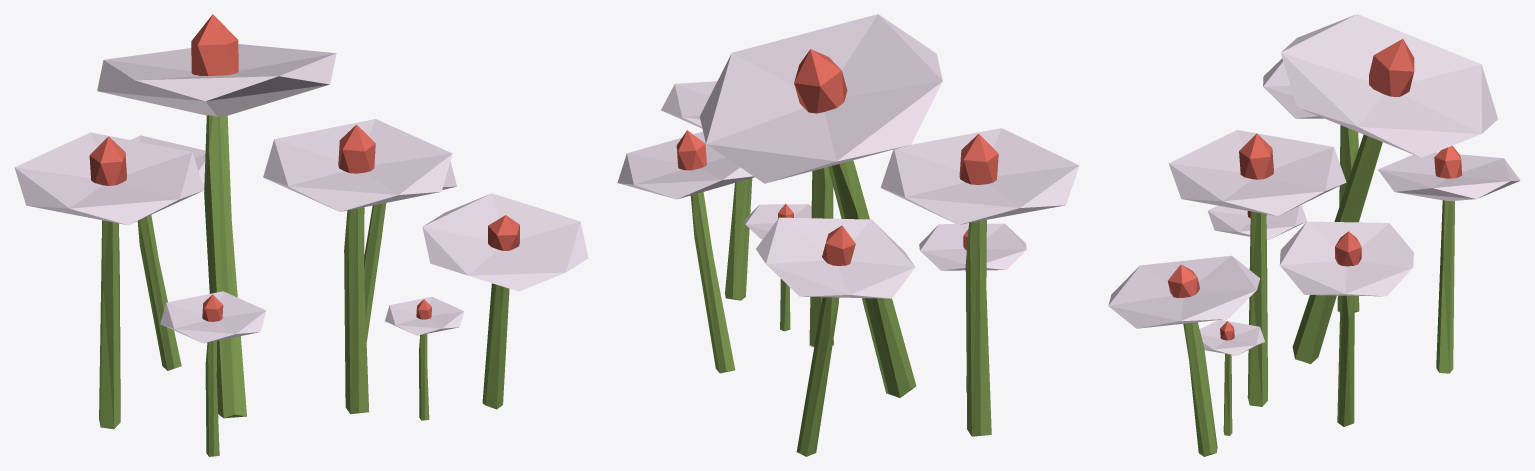
The model's file is 白色小花丛1.fbx.
3 renders of one model, left to right at view 1: azimuth 30°, elevation 25°; view 2: azimuth 150°, elevation 25°; view 3: azimuth 270°, elevation 25°, orthographic. The views are drawn at different scales.
Parts seen in each view (by area): view 1: Flower1-2.003; view 2: Flower1-2.003; view 3: Flower1-2.003.
Boxes of the visible parts, <box> form: Flower1-2.003: <box>14,14,588,456</box>; Flower1-2.003: <box>617,14,1079,456</box>; Flower1-2.003: <box>1108,14,1520,456</box>.
Size of the model in its own units: 65.78 by 49.53 by 54.17.
